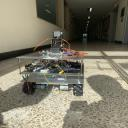cart: (16, 52, 84, 96)
